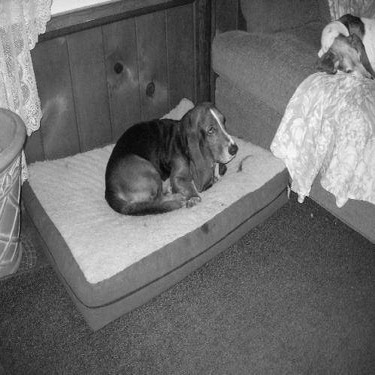dog: (96, 96, 239, 222), (311, 5, 372, 86)
